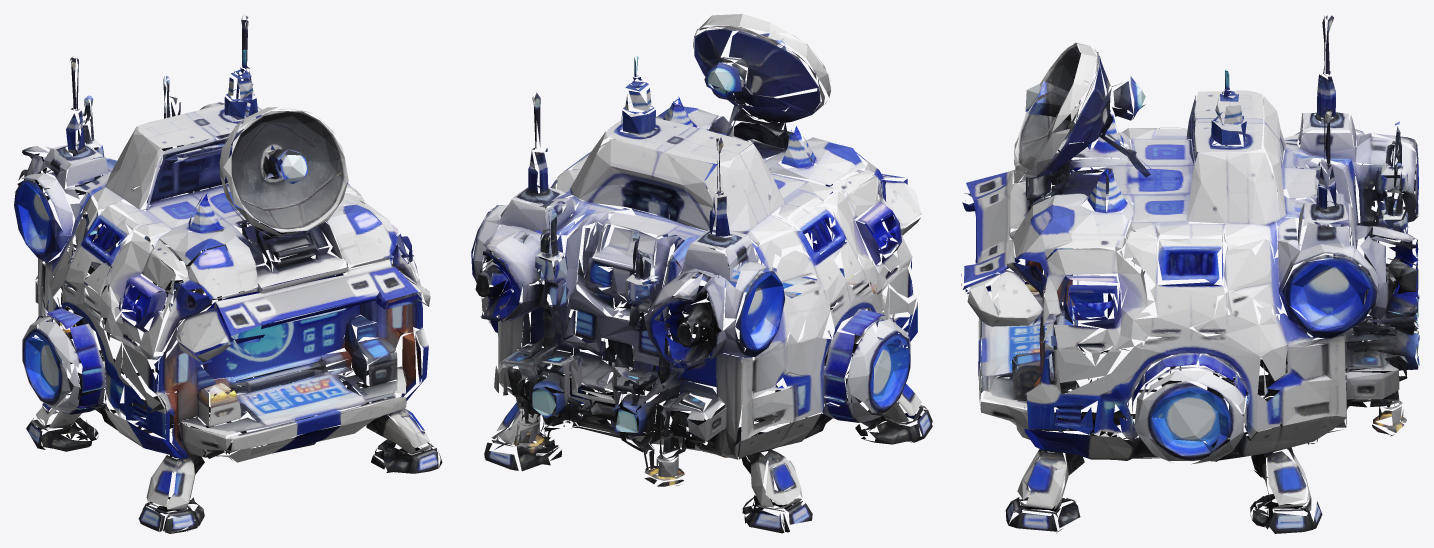
File: defShipShop_lo.glb
3 views of the same model, side by side, from view 1: azimuth 30°, elevation 25°; view 2: azimuth 150°, elevation 25°; view 3: azimuth 270°, elevation 25° (orthographic). The views are drawn at different scales.
Visible parts, largest first — view 1: geometry_0; view 2: geometry_0; view 3: geometry_0.
Part boxes in pixels (x1,y1,x2,y2): geometry_0: (14, 15, 442, 533); geometry_0: (471, 14, 932, 533); geometry_0: (961, 15, 1419, 533).
Size of the model in its own units: 1 by 0.981 by 1.
Materials: 1 (1 with a texture image).
